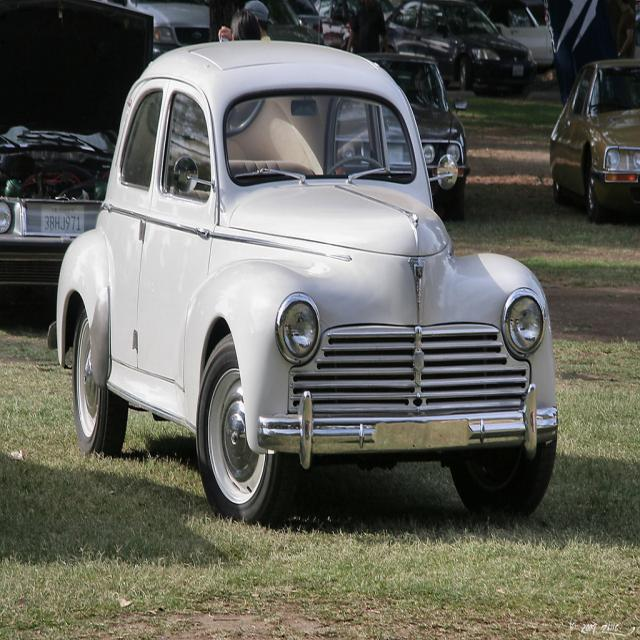car: (59, 38, 562, 505)
